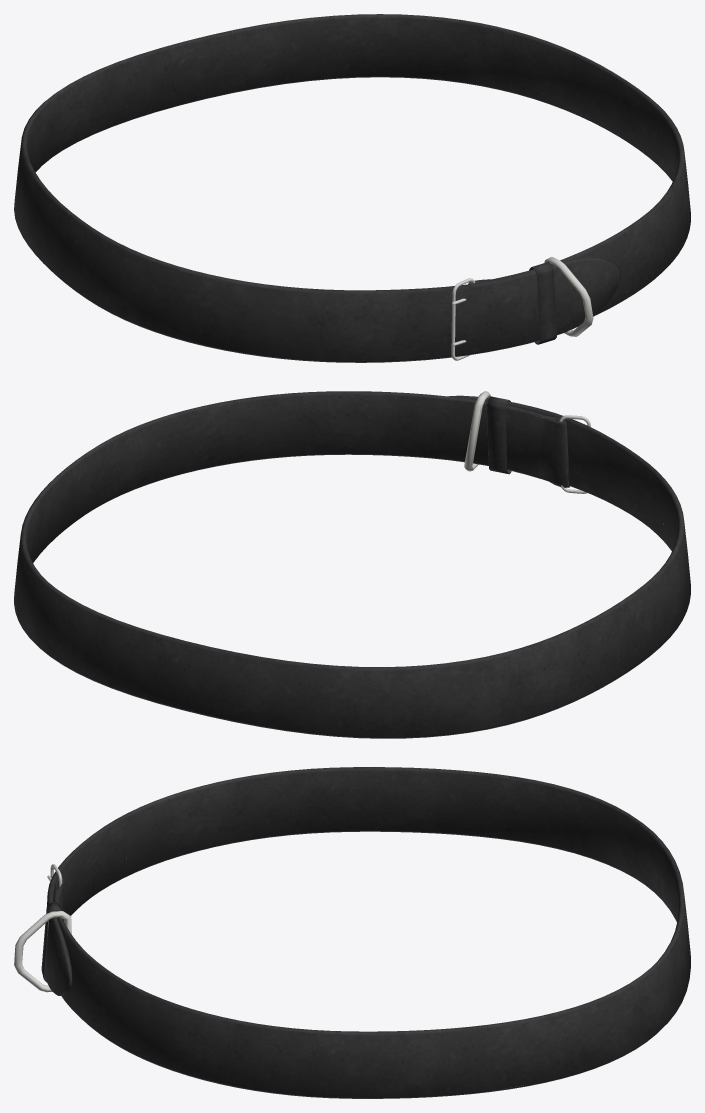
Rendered from Only_belt.fbx.
The picture shows the model from 3 angles, top to bottom: view 1: azimuth 30°, elevation 25°; view 2: azimuth 150°, elevation 25°; view 3: azimuth 270°, elevation 25°; orthographic projection. The views are drawn at different scales.
Parts seen in each view (by area): view 1: BezierCircle.002; view 2: BezierCircle.002; view 3: BezierCircle.002.
Boxes of the visible parts, box(x1,y1,x2,y2) form: BezierCircle.002: box(14, 14, 690, 362); BezierCircle.002: box(14, 391, 690, 738); BezierCircle.002: box(14, 767, 690, 1098).
Size of the model in its own units: 0.3278 by 0.0425 by 0.346.
